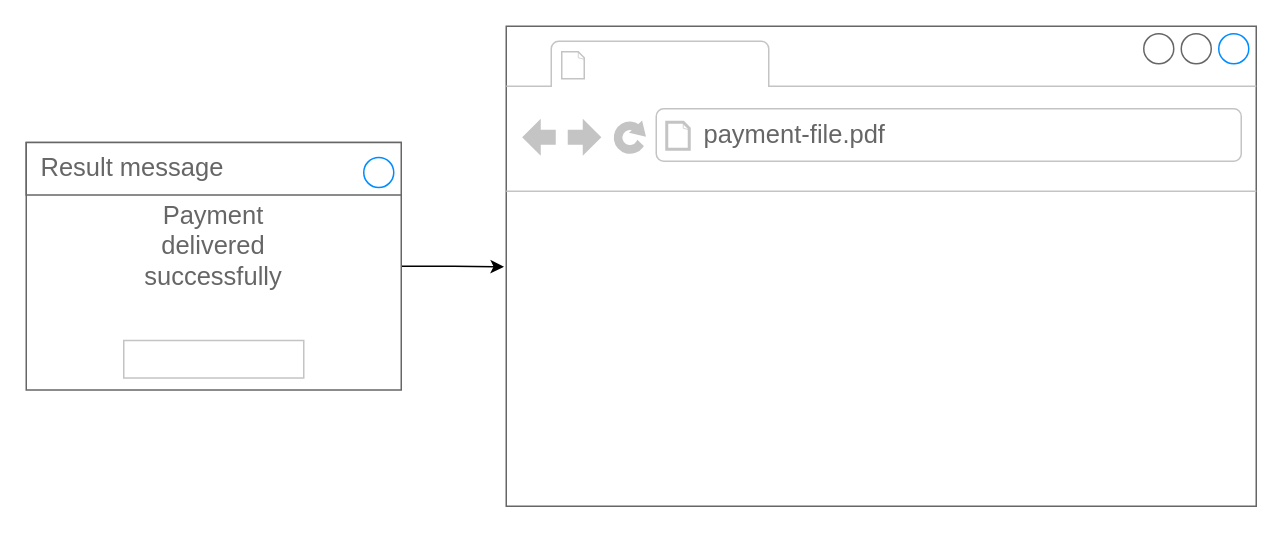
Some shapes in this 1283 by 533 pixel diagram are drawn without their labels. Each missing label, with the centre of its shape:
"Payment" belongs at [678,63].
"Payment check" belongs at [213,358].
